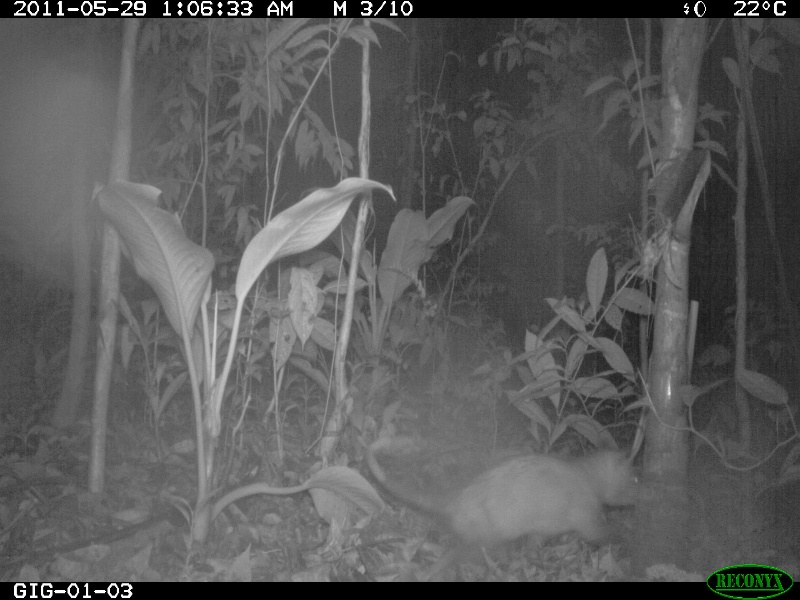opossum: (369, 431, 641, 572)
